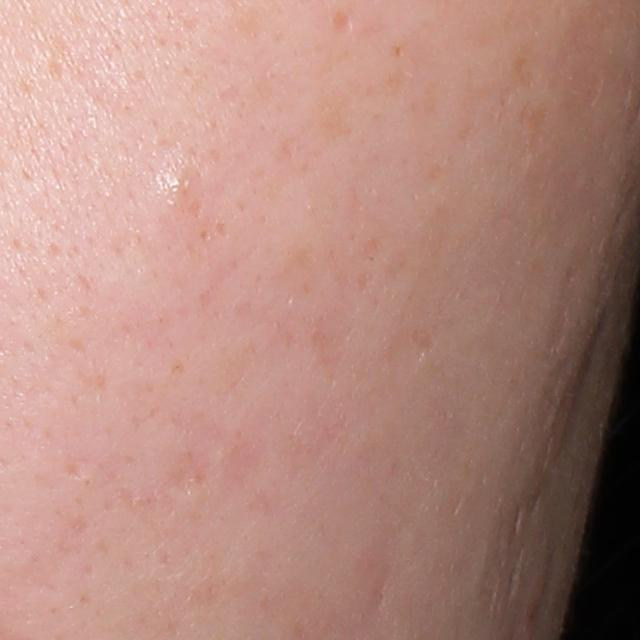atrophic_scar: (558, 321, 608, 454), (410, 328, 434, 363), (332, 9, 355, 39)
comedo: (156, 158, 211, 213)
